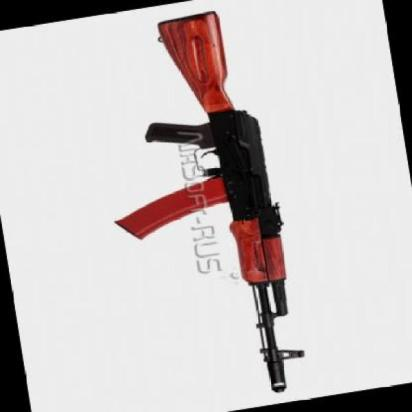Gun: (68, 0, 329, 412)
